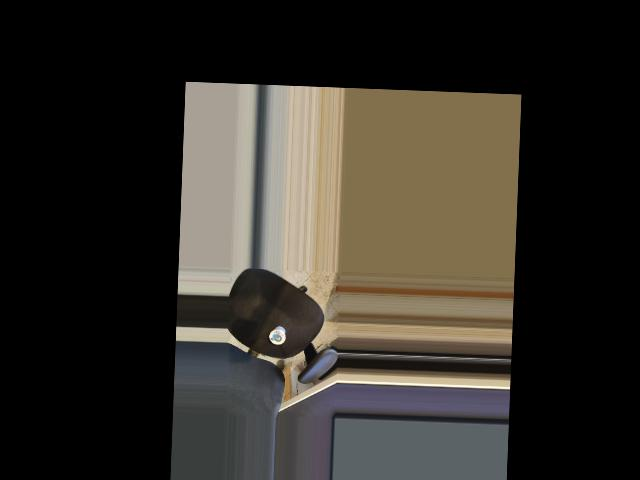cotage: (265, 321, 286, 345)
